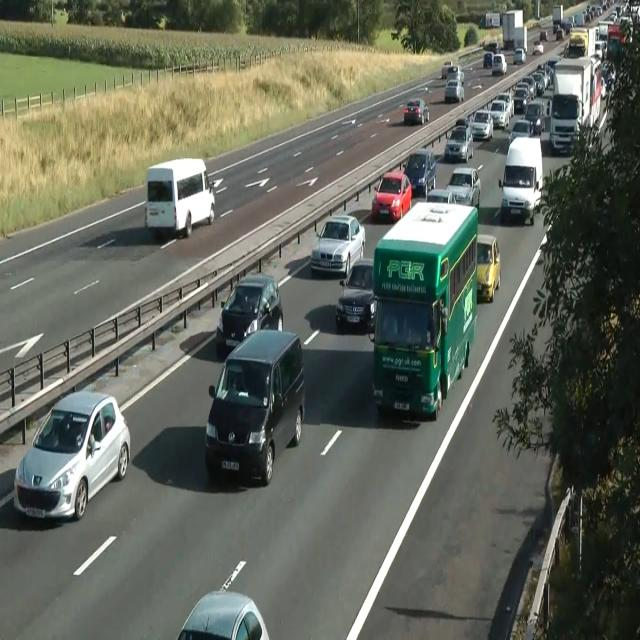bus: (13, 389, 131, 522), (216, 273, 283, 355), (176, 589, 270, 639), (310, 214, 366, 276), (335, 258, 377, 330), (372, 171, 412, 222), (476, 234, 500, 302), (446, 166, 480, 209), (469, 110, 493, 140), (403, 98, 429, 125), (523, 102, 544, 135), (508, 118, 532, 145), (488, 99, 509, 129), (425, 188, 455, 205), (512, 84, 530, 112), (496, 91, 514, 118), (444, 79, 464, 103), (564, 38, 586, 58), (601, 60, 615, 90), (491, 52, 507, 74), (446, 66, 464, 84), (512, 47, 526, 65), (441, 60, 453, 78), (532, 40, 543, 55), (483, 52, 493, 68), (540, 30, 548, 42)
jeep: (204, 328, 306, 485), (498, 135, 543, 225), (548, 92, 580, 154), (403, 148, 436, 196), (444, 124, 473, 162)
minibus: (370, 201, 478, 420), (143, 156, 215, 238), (550, 56, 602, 155), (502, 10, 524, 49), (478, 12, 500, 28), (552, 4, 563, 34)
